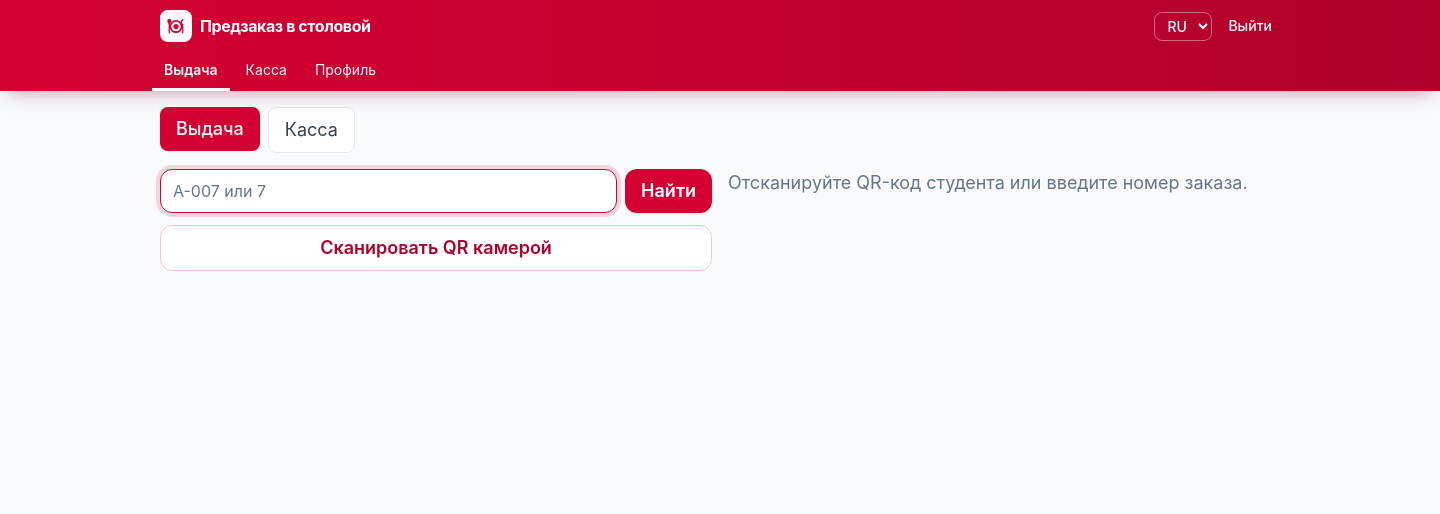
Scenario: pickup › shows «Ещё готовится» in large type
The image size is (1440, 514).
Type "A-007" into the field named "Номер заказа" at (389, 191), box top-left (160, 169), bottom-right (617, 213)
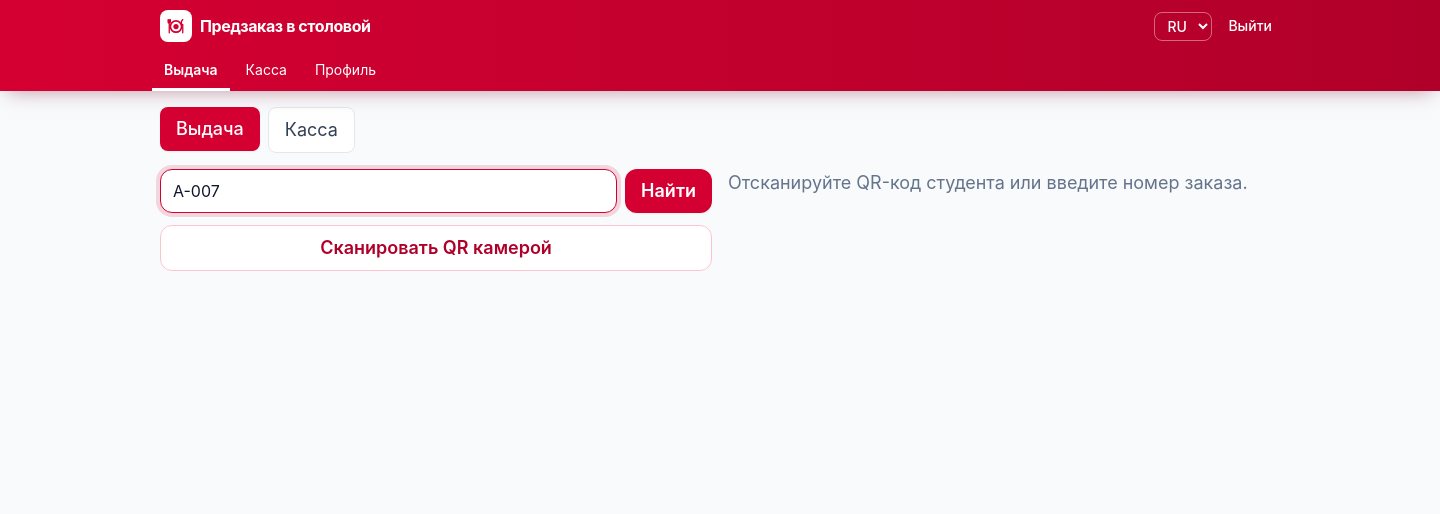
Click the button "Найти" at (669, 191), box top-left (625, 169), bottom-right (712, 213)
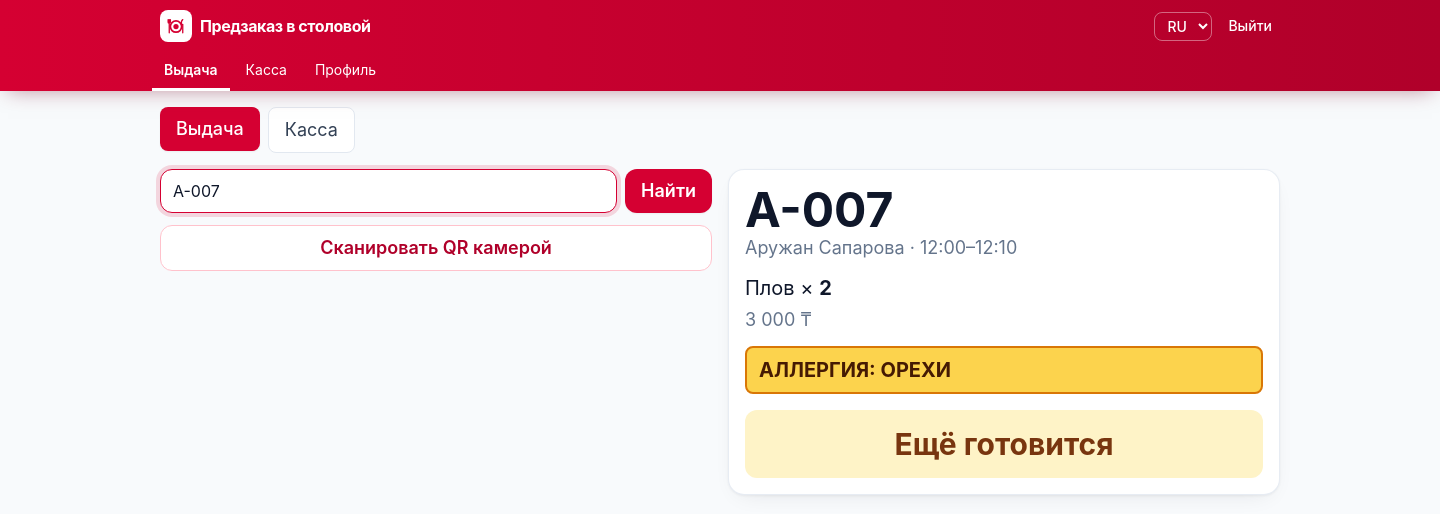
Now the text "Ещё готовится" is shown, box top-left (745, 410), bottom-right (1263, 478)
